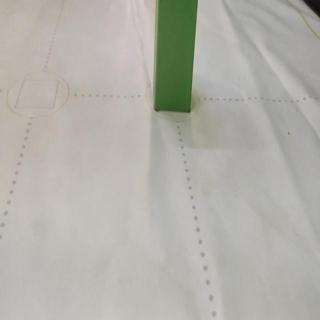greenbox: (151, 0, 198, 114)
